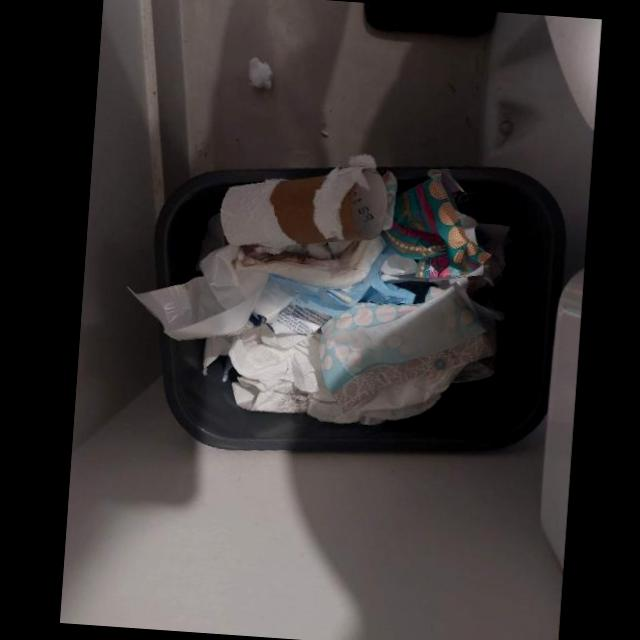carton: (269, 166, 387, 243)
giay: (126, 244, 296, 340), (307, 355, 496, 425), (203, 323, 322, 412)
goi_nhua_nho: (384, 168, 492, 278)
